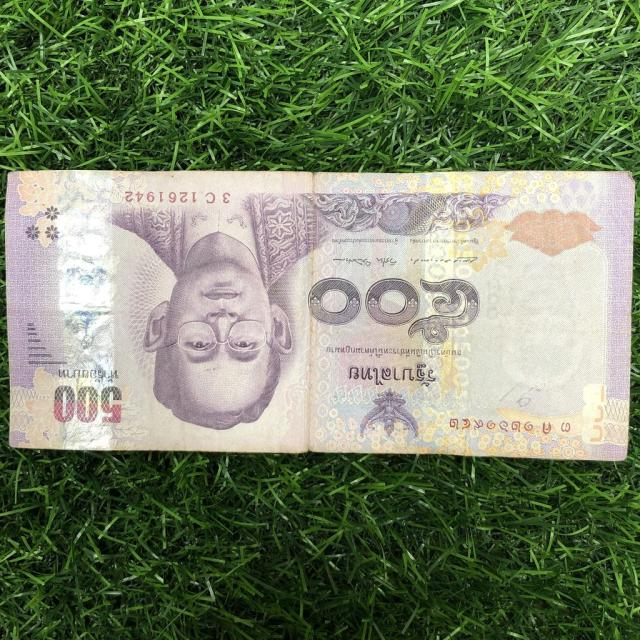THAI500: (3, 170, 636, 466)
